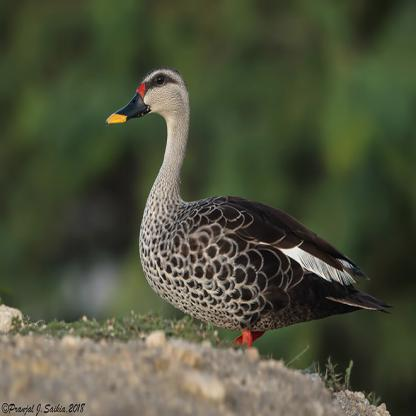Burung: (105, 67, 392, 339)
